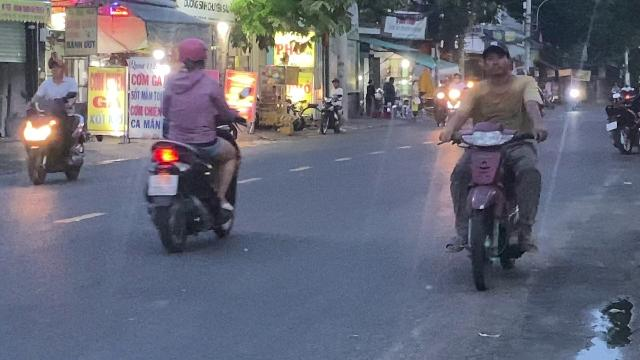helmet: (176, 38, 208, 70)
licenseplate: (148, 175, 178, 195)
motorcyclist: (434, 38, 550, 294), (142, 36, 245, 254), (20, 57, 90, 185)
nohelmet: (479, 40, 513, 78), (48, 57, 66, 78)
